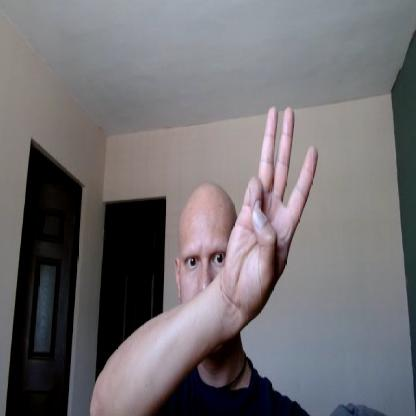W: (223, 102, 320, 314)
